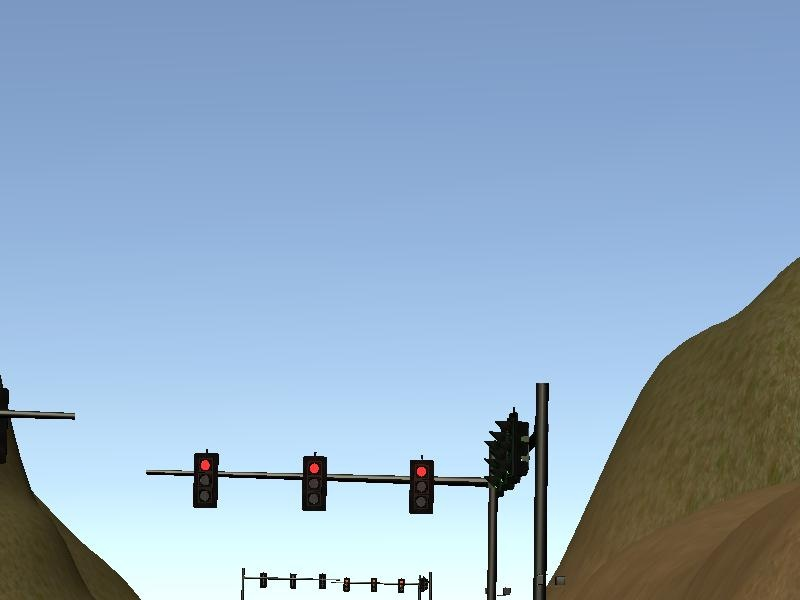Red: (193, 452, 217, 509), (302, 455, 326, 511), (409, 461, 434, 514)
